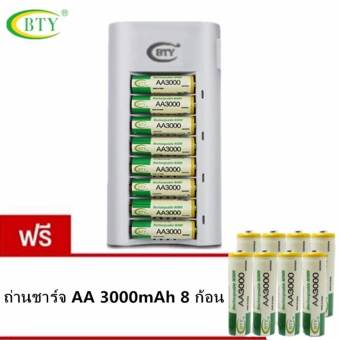Battery: (300, 249, 328, 339), (227, 248, 252, 337), (253, 249, 278, 337), (278, 249, 302, 338), (127, 113, 198, 137), (128, 71, 197, 94), (129, 93, 198, 115), (127, 136, 199, 157), (127, 157, 198, 178), (128, 199, 199, 220), (128, 220, 198, 241), (127, 178, 198, 198)
